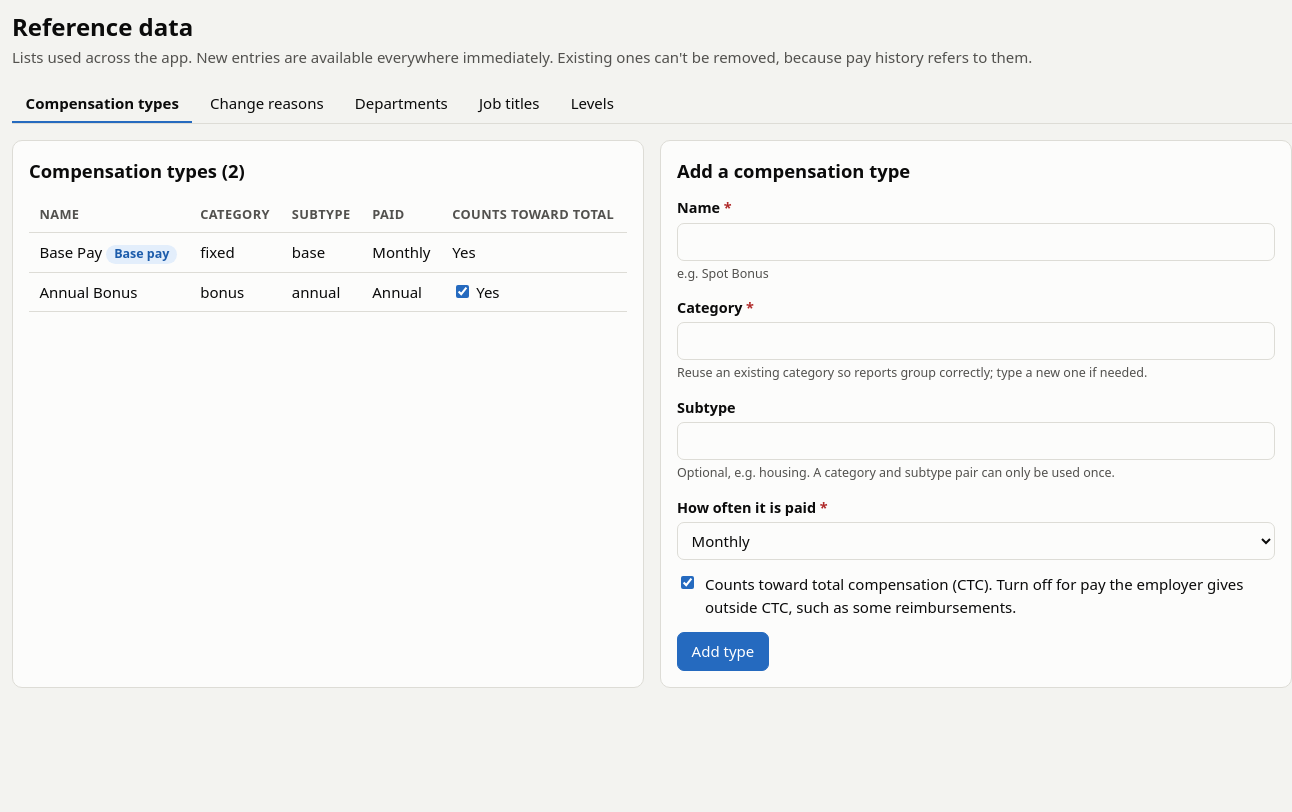
Test case: compensation types › shows the existing types, and a duplicate is explained inline without losing what was typed
The width and height of the screenshot is (1292, 812).
Expected: the heading "Compensation types (2)" is shown, [29,158,245,183]
Type "Spot Bonus" into the field labelled "Name *" at (976, 242), box [677,223,1275,260]
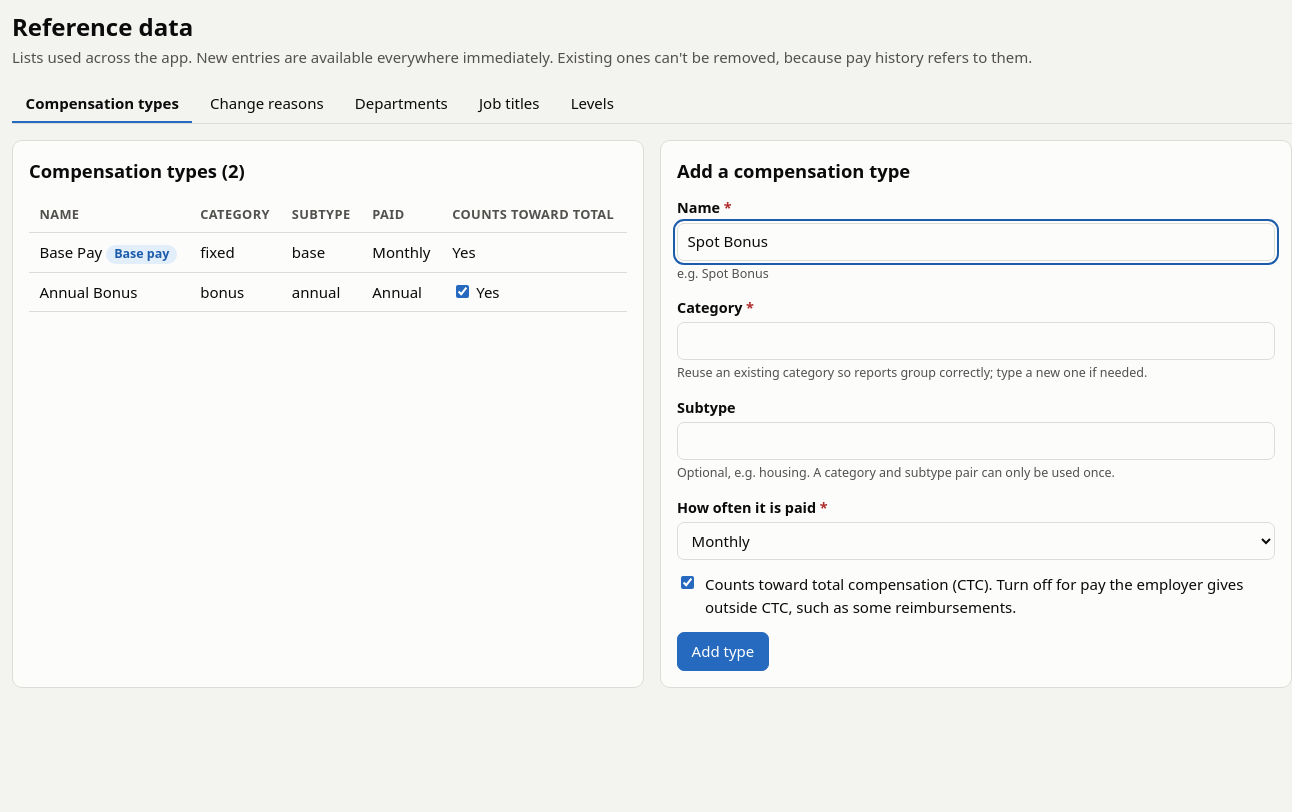
Type "bonus" into the field labelled "Category *" at (976, 341), box [677,322,1275,360]
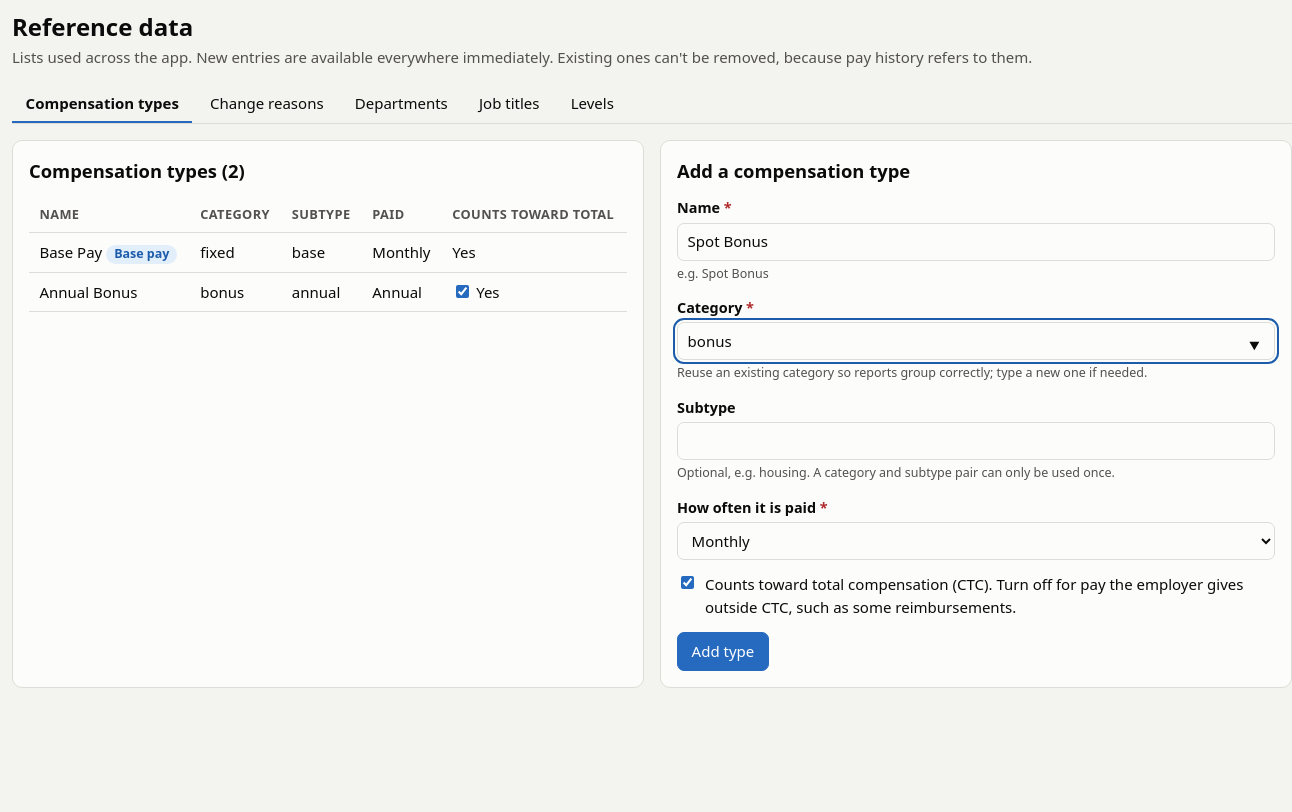
Type "annual" into the field labelled "Subtype" at (976, 441), box [677,422,1275,460]
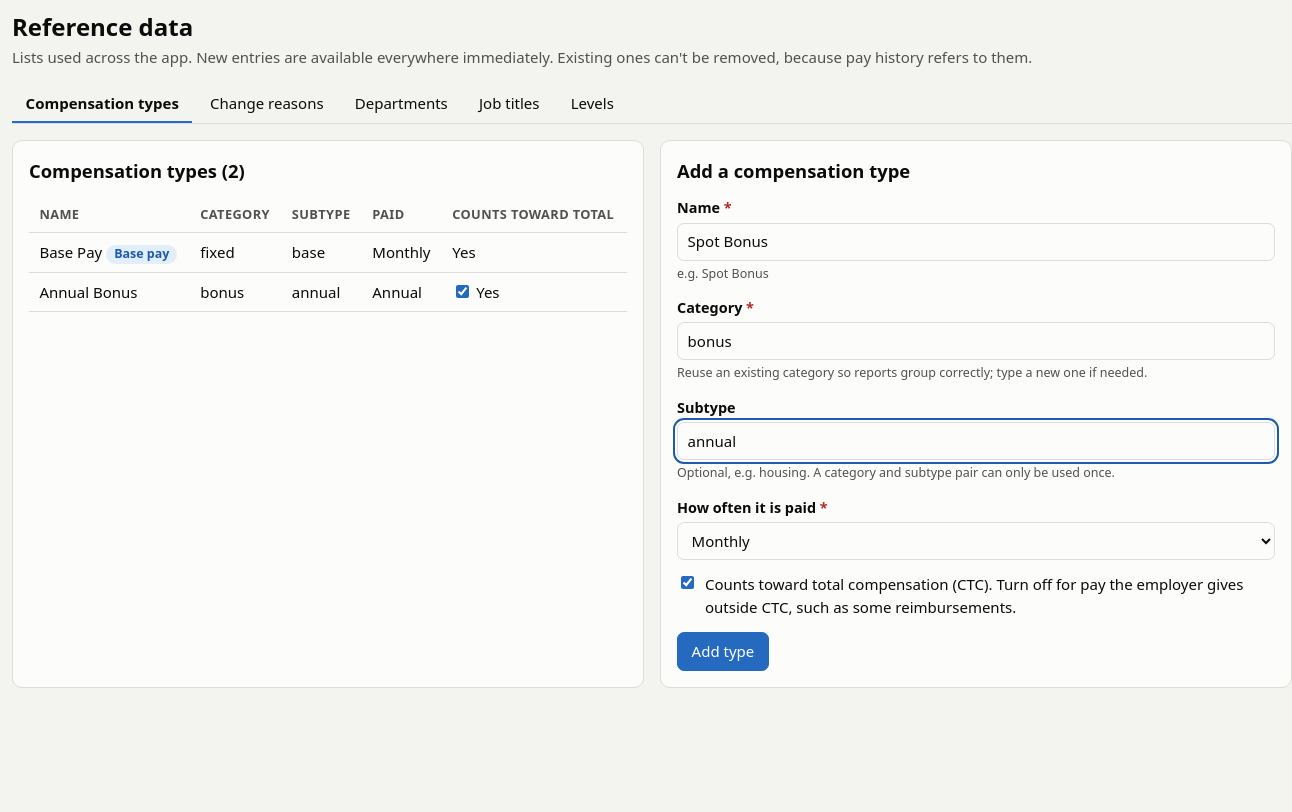
Click the button "Add type" at (723, 651), box [677,632,769,671]
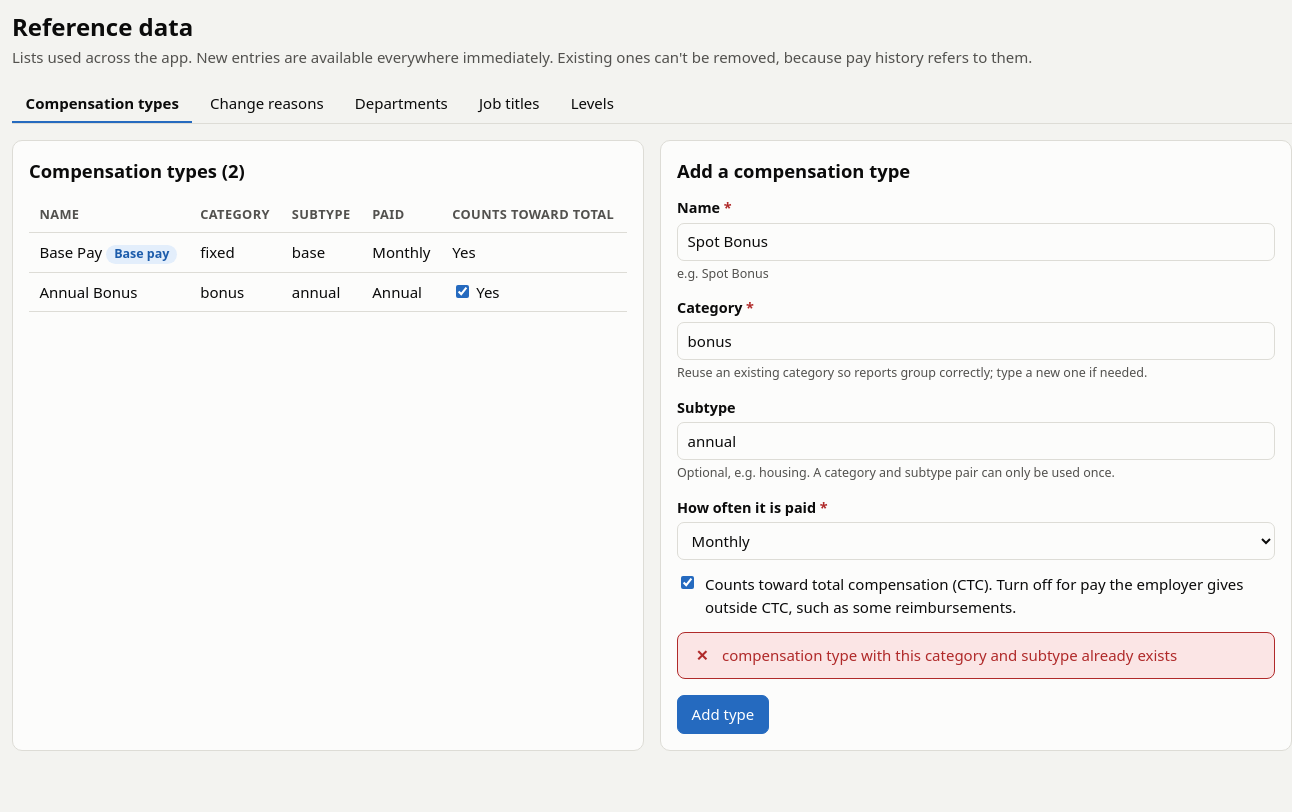
Expected: the message shows "already exists", [722,645,1177,665]
